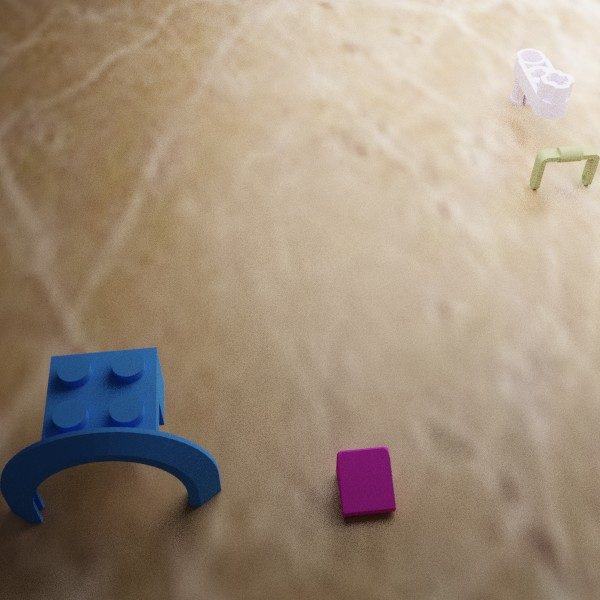lego: (0, 347, 221, 524), (509, 48, 574, 119), (335, 446, 396, 517), (529, 145, 600, 189)
